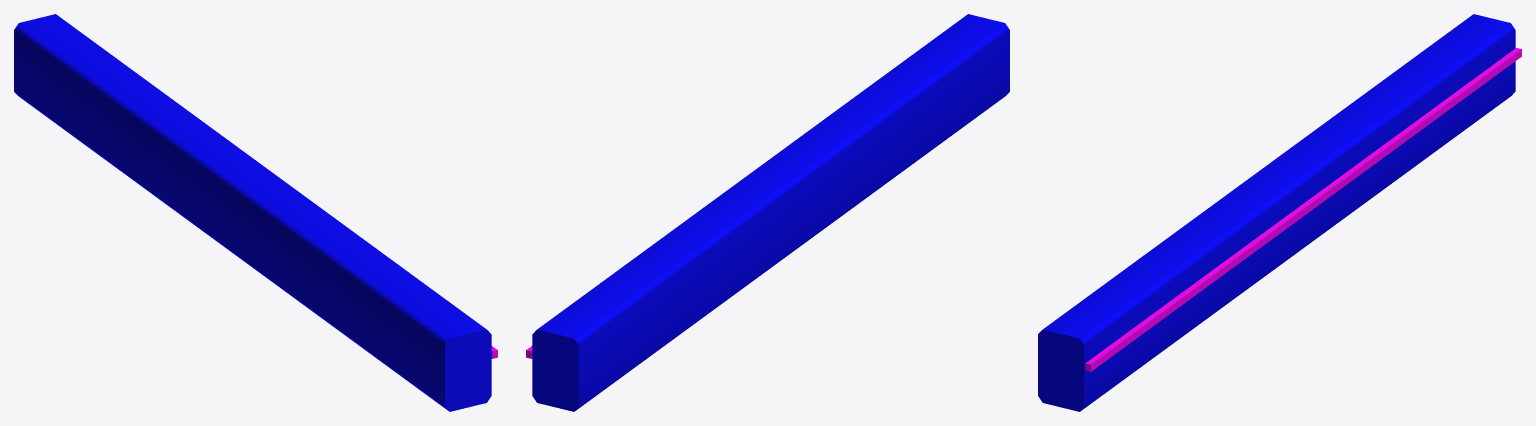
Rendered from mini_mono_track_MOCKUP.fbx.
The picture shows the model from 3 angles, left to right: view 1: azimuth 30°, elevation 25°; view 2: azimuth 150°, elevation 25°; view 3: azimuth 330°, elevation 25°; orthographic projection.
Parts seen in each view (by area): view 1: mini_mono_track_MOCKUP; view 2: mini_mono_track_MOCKUP; view 3: mini_mono_track_MOCKUP.
Part boxes in pixels (x1=…): mini_mono_track_MOCKUP: x1=14, y1=14, x2=497, y2=411; mini_mono_track_MOCKUP: x1=526, y1=14, x2=1009, y2=411; mini_mono_track_MOCKUP: x1=1038, y1=14, x2=1521, y2=411.
Size of the model in its own units: 0.0707 by 0.094 by 1.
